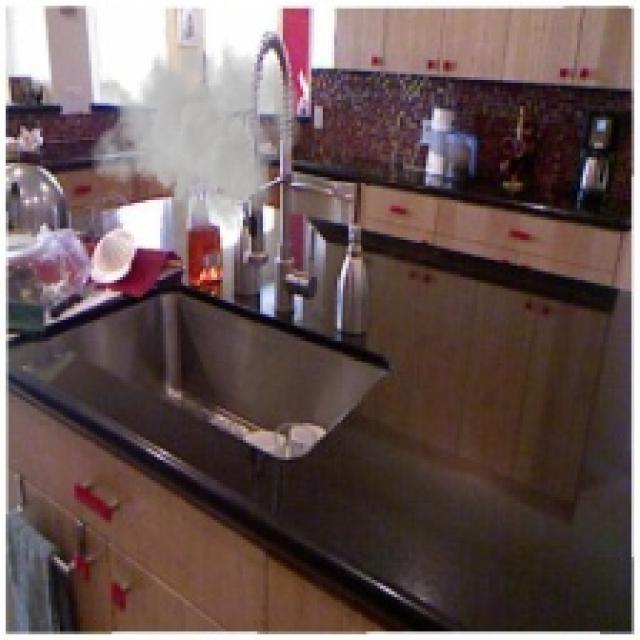smoke: (88, 20, 303, 231)
